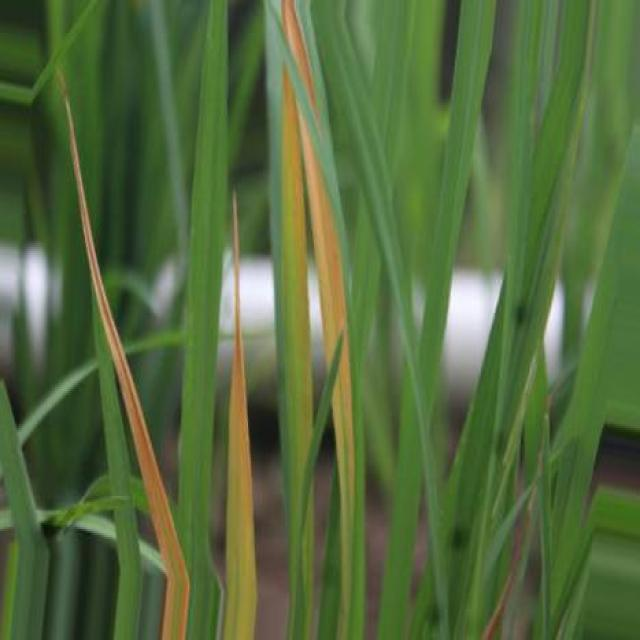Rice Tungro: (61, 73, 189, 639), (299, 111, 356, 637), (222, 193, 258, 639), (282, 71, 308, 311), (282, 0, 319, 117)
